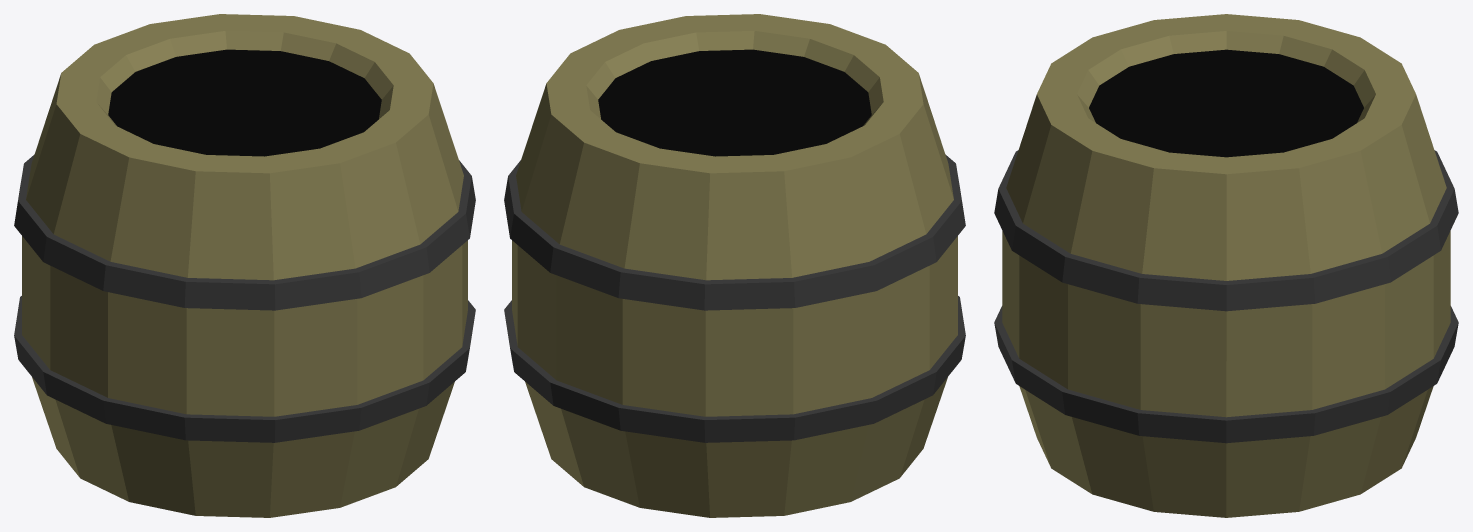
File: barrel-empty.fbx
3 renders of one model, left to right at view 1: azimuth 30°, elevation 25°; view 2: azimuth 150°, elevation 25°; view 3: azimuth 270°, elevation 25°, orthographic.
Parts seen in each view (by area): view 1: Cylinder; view 2: Cylinder; view 3: Cylinder.
Part boxes in pixels (x1=…): Cylinder: x1=14, y1=14, x2=475, y2=517; Cylinder: x1=504, y1=14, x2=965, y2=517; Cylinder: x1=994, y1=14, x2=1458, y2=517.
Size of the model in its own units: 245 by 200 by 245.
